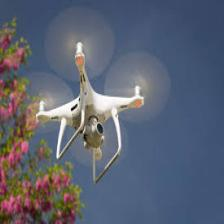drone: (22, 12, 168, 187)
